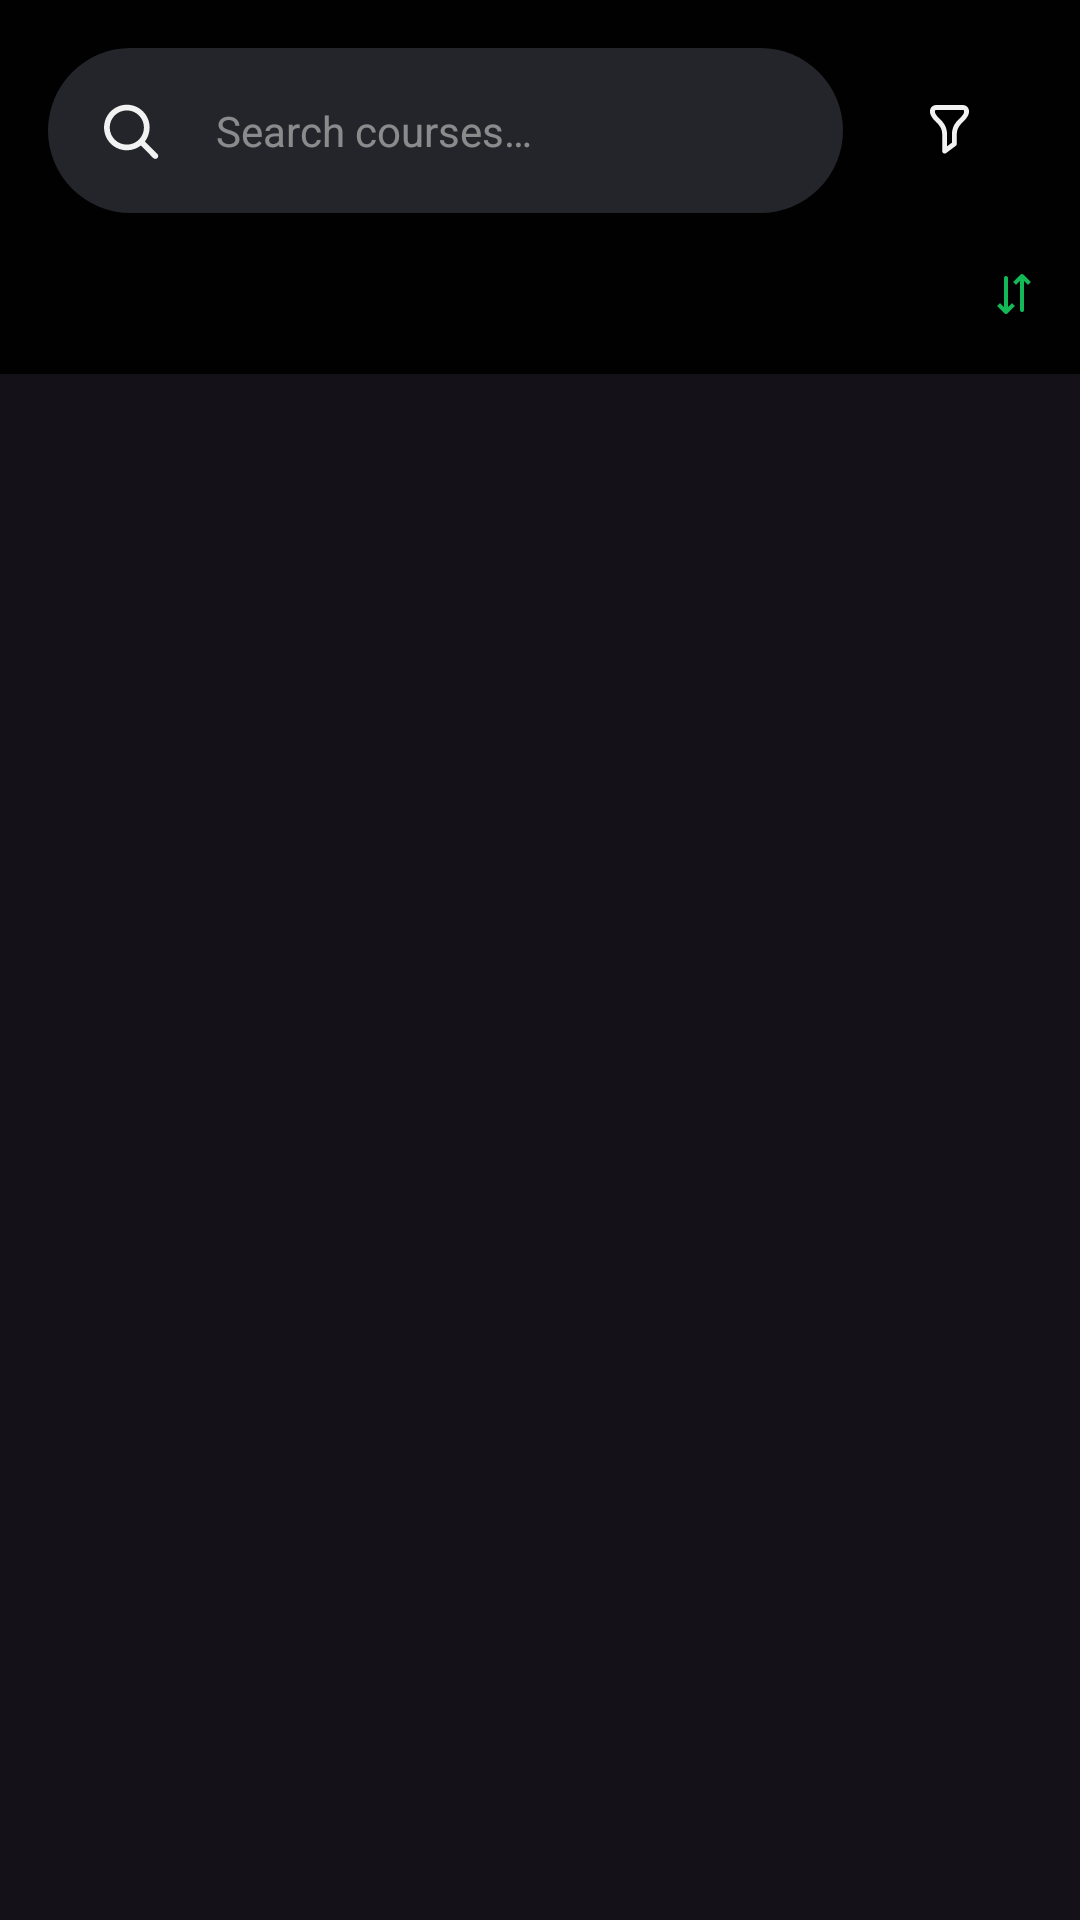

Where icons sit on this 1080 × 1920 app screen, as Rect(x1, y1, x2, y2):
filter: Rect(930, 105, 969, 154)
sort: Rect(997, 274, 1031, 314)
